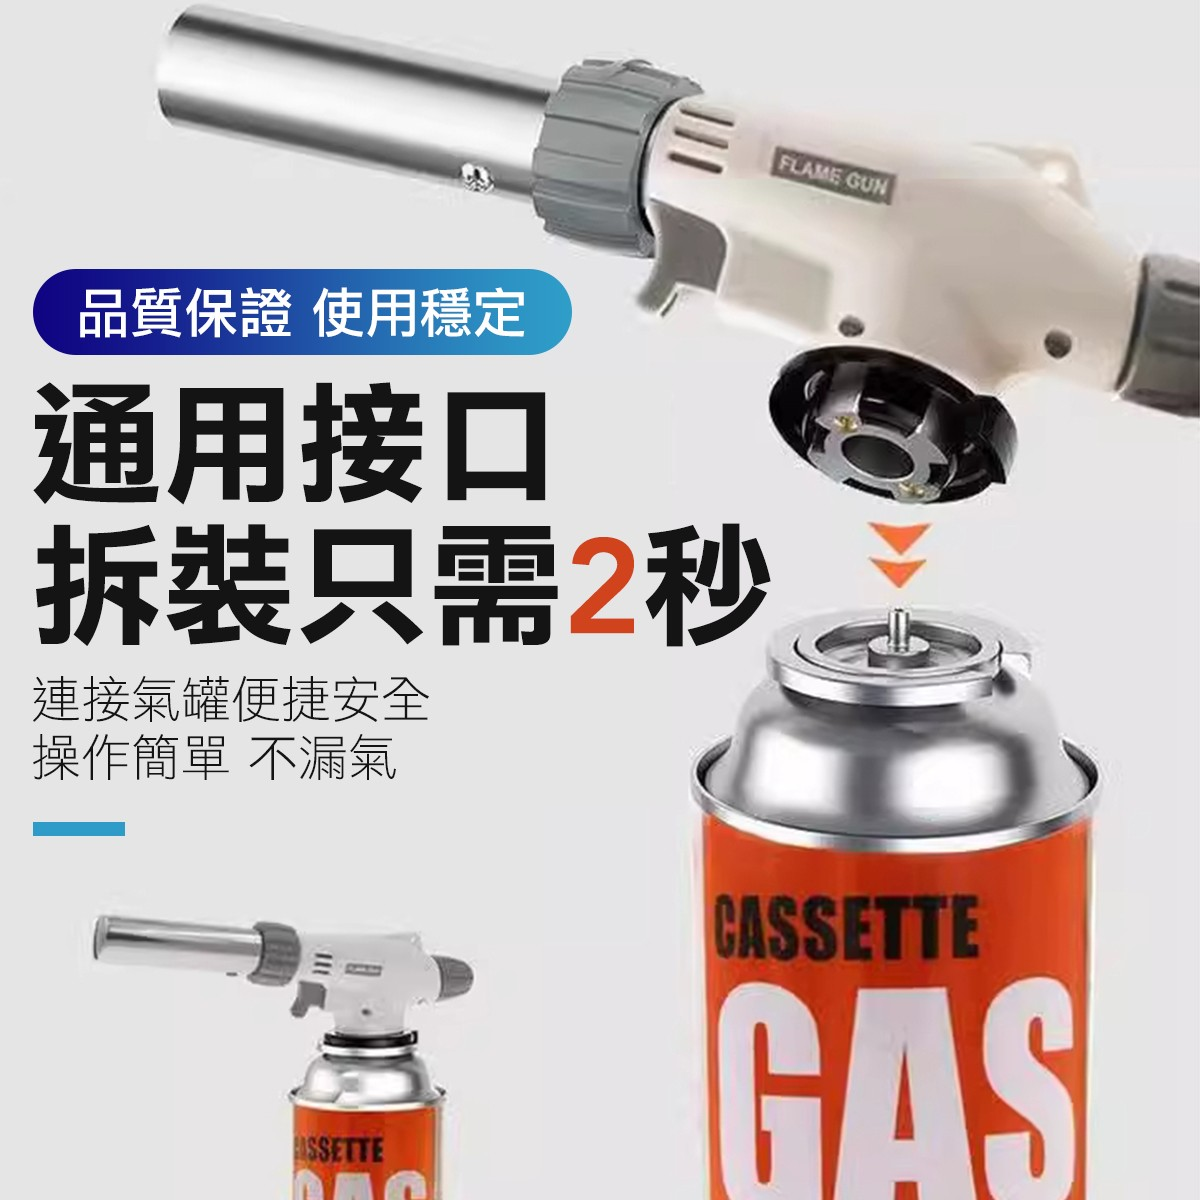gastorch: (155, 5, 1200, 1188), (84, 904, 491, 1200)
